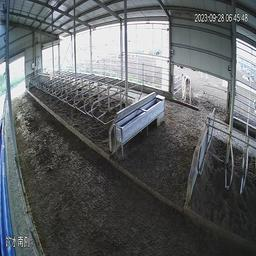cow: (180, 71, 190, 106)
